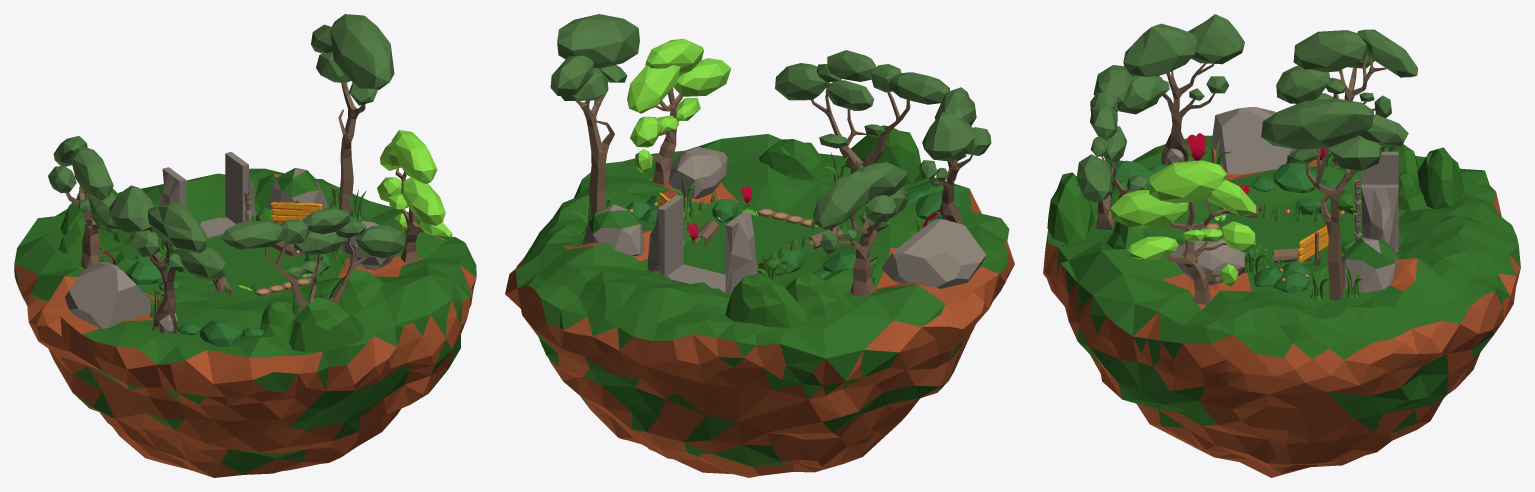
The model's file is Isla2.fbx.
3 renders of one model, left to right at view 1: azimuth 30°, elevation 25°; view 2: azimuth 150°, elevation 25°; view 3: azimuth 270°, elevation 25°, orthographic. The views are drawn at different scales.
Parts seen in each view (by area): view 1: isla, follaje5, follaje3, arbusto.001, follaje1, follaje4, Stone3.001, follaje2, pilares, roca1, tronco1, arbusto (+7 smaller); view 2: isla, follaje5, follaje4, follaje1, pilares, arbusto, Stone3.001, follaje2, arbusto.001, follaje3, roca, roca1 (+8 smaller); view 3: isla, follaje4, follaje1, follaje3, follaje2, follaje5, Stone3.001, arbusto, arbusto.001, pilares, roca1, tronco1 (+8 smaller).
Part boxes in pixels (box(x1,y1,x2,y2)): isla: box(14, 168, 476, 477); follaje5: box(221, 208, 404, 278); follaje3: box(109, 185, 225, 280); arbusto.001: box(260, 268, 383, 352); follaje1: box(311, 14, 394, 105); follaje4: box(377, 130, 452, 239); Stone3.001: box(64, 262, 156, 328); follaje2: box(48, 136, 119, 233); pilares: box(158, 152, 256, 240); roca1: box(267, 168, 327, 209); tronco1: box(338, 82, 365, 214); arbusto: box(59, 188, 133, 254); isla: box(505, 134, 1014, 477); follaje5: box(775, 50, 949, 148); follaje4: box(627, 38, 731, 173); follaje1: box(550, 14, 639, 100); pilares: box(647, 195, 757, 294); arbusto: box(725, 273, 852, 328); Stone3.001: box(881, 219, 985, 288); follaje2: box(813, 162, 907, 254); arbusto.001: box(759, 125, 923, 194); follaje3: box(919, 87, 991, 181); roca: box(668, 147, 727, 198); roca1: box(582, 204, 644, 256); isla: box(1043, 135, 1520, 477); follaje4: box(1110, 160, 1256, 286); follaje1: box(1261, 98, 1408, 170); follaje3: box(1117, 14, 1244, 114); follaje2: box(1276, 29, 1417, 117); follaje5: box(1076, 65, 1148, 202); Stone3.001: box(1211, 107, 1297, 174); arbusto: box(1381, 144, 1464, 211); arbusto.001: box(1047, 172, 1148, 249); pilares: box(1361, 151, 1398, 253); roca1: box(1342, 237, 1397, 292); tronco1: box(1306, 147, 1357, 300).
Bounding box in the file's own units: 1340 × 1255 × 1287.
